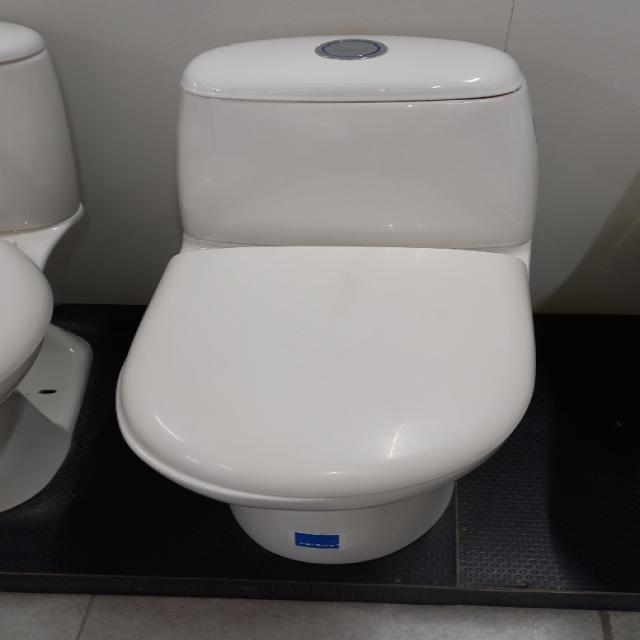toilet: (113, 34, 538, 564)
